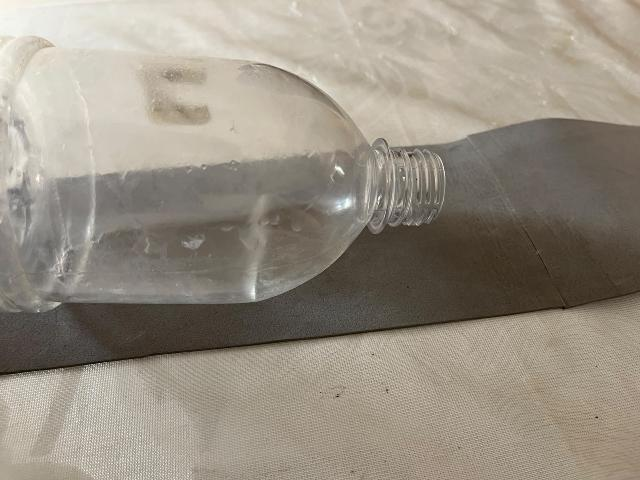PET: (0, 0, 485, 367)
